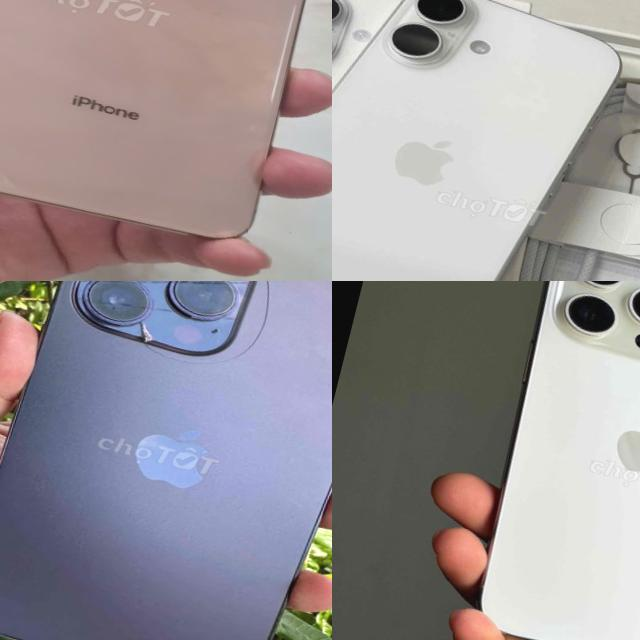scratch: (120, 328, 242, 384), (206, 306, 281, 383), (218, 281, 306, 325)
